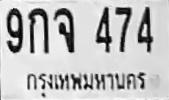4: (95, 5, 112, 52), (136, 5, 153, 52)
7: (114, 6, 131, 52)
9: (5, 6, 22, 52)
A01: (27, 7, 48, 53)
A08: (53, 7, 74, 52)
BKK: (23, 69, 147, 100)
